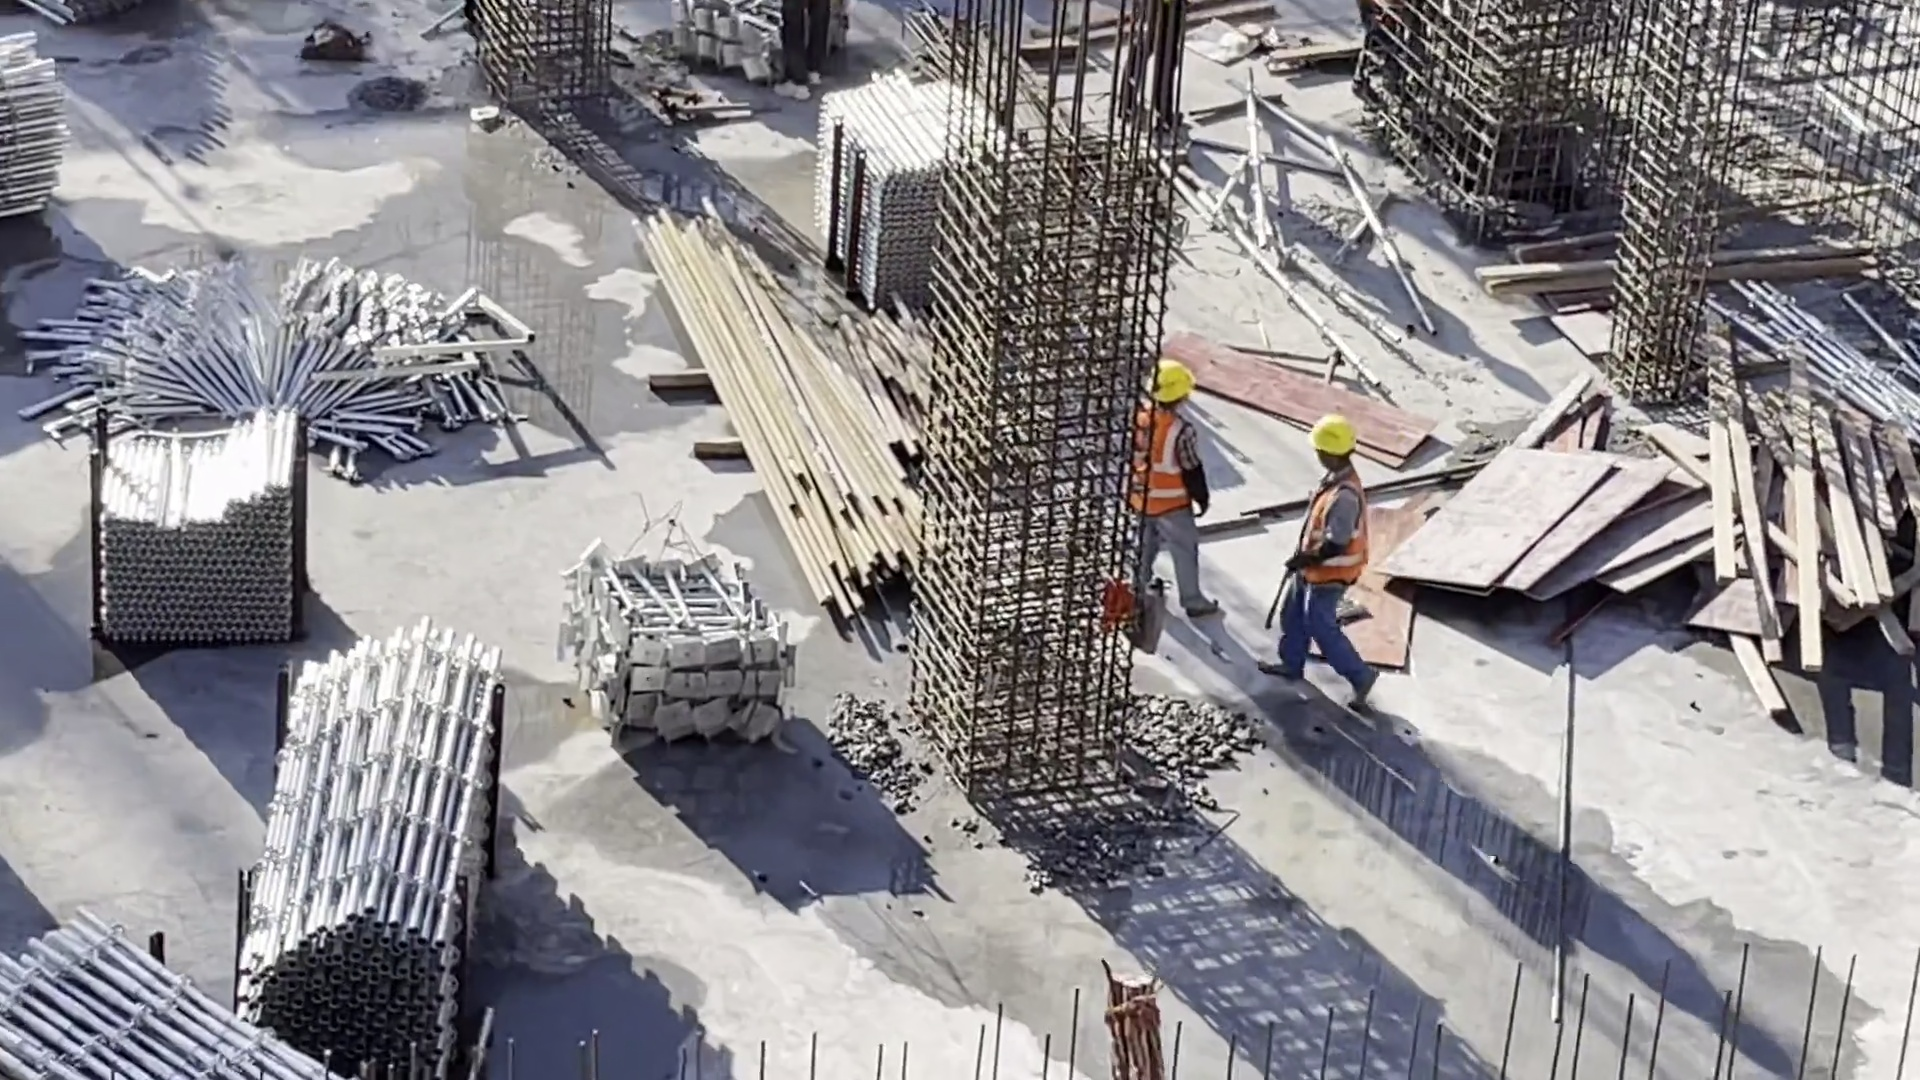board: (1169, 327, 1733, 701)
helmet: (1298, 409, 1360, 463), (1149, 361, 1197, 419)
person: (1121, 343, 1215, 624), (1290, 433, 1371, 690)
rebar: (628, 180, 971, 624)
scaffold: (237, 629, 479, 1059), (545, 509, 797, 771), (63, 397, 319, 648), (793, 63, 1038, 313), (5, 893, 285, 1080), (1, 31, 85, 234)
vest: (1292, 474, 1361, 601), (1129, 418, 1192, 522)
